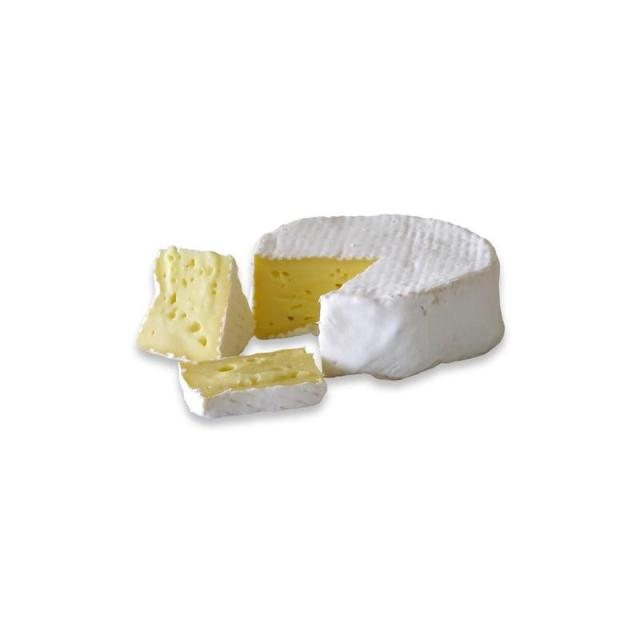Cheese: (247, 206, 515, 384), (140, 244, 320, 422)
